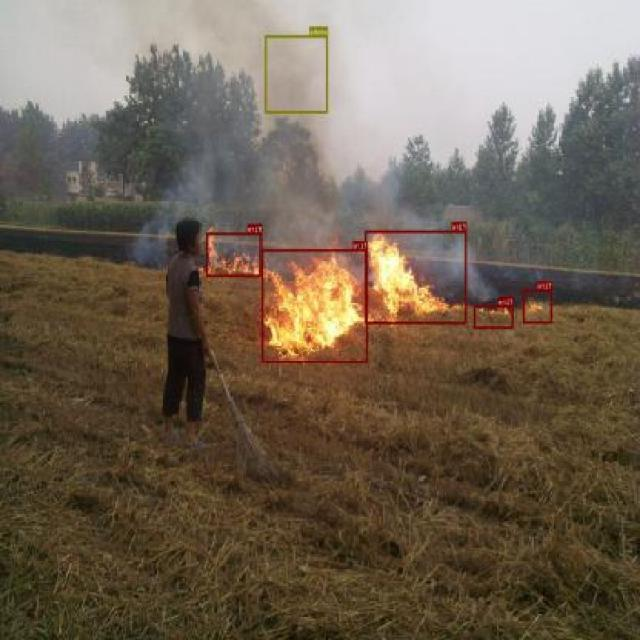Fire: (262, 248, 368, 362), (365, 230, 467, 324), (207, 232, 262, 277), (474, 304, 514, 330), (523, 289, 552, 323)
Smoke: (266, 34, 328, 114)
